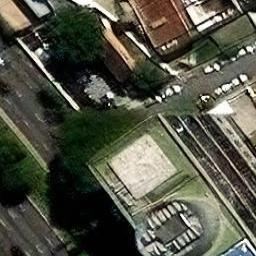heliponto: (107, 135, 177, 201)
